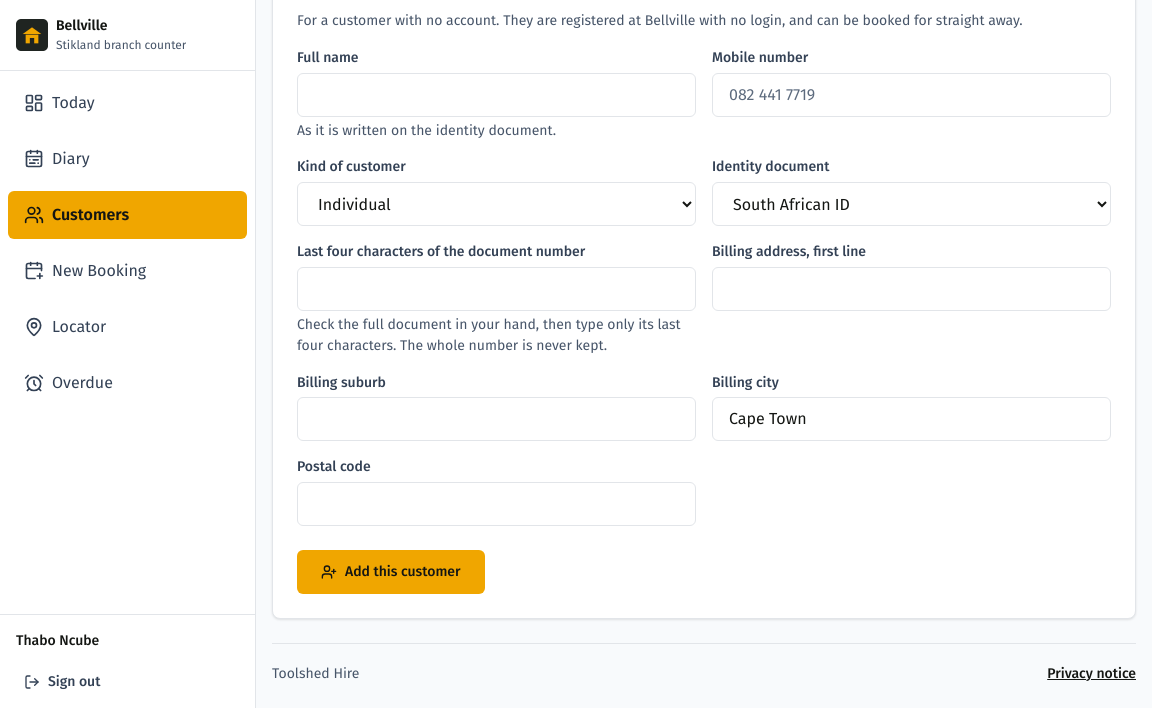
the walk in form › checks every answer before it asks the API, and ties each problem to its field
(page scrolled)
Click the button "Add this customer" at (391, 572), box 297,550 -> 484,594
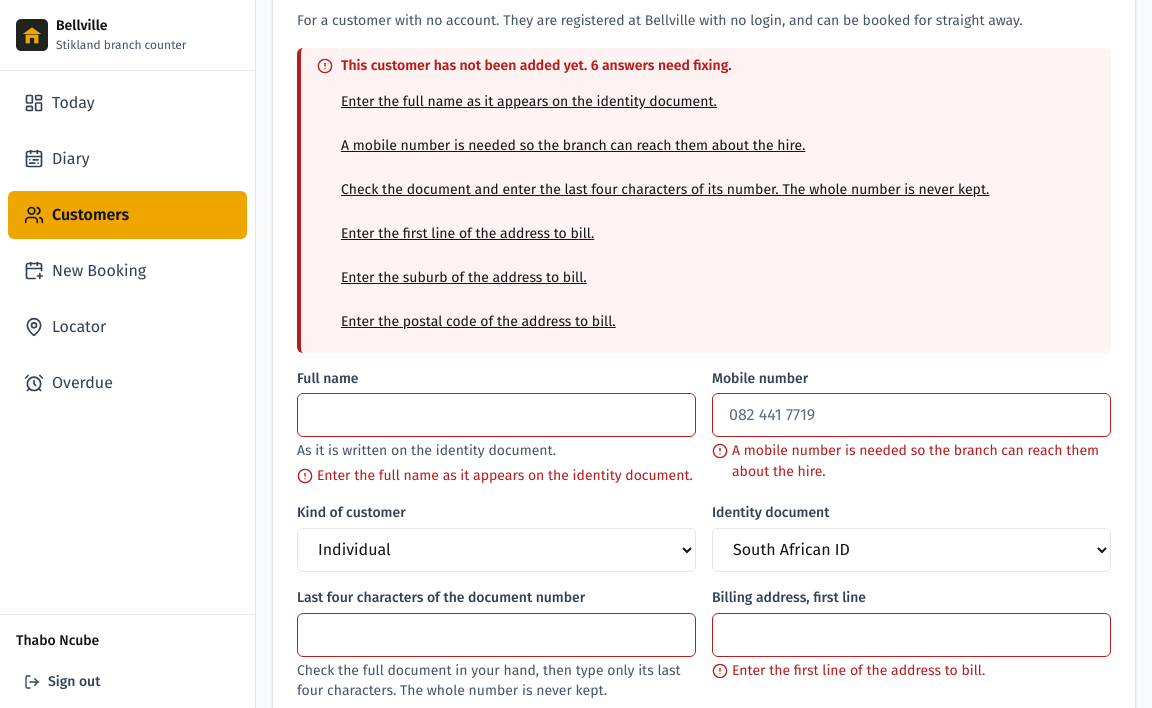
Expected: the message shows "This customer has not been added yet. 6 answers need fixing.", 341,57 -> 732,74
